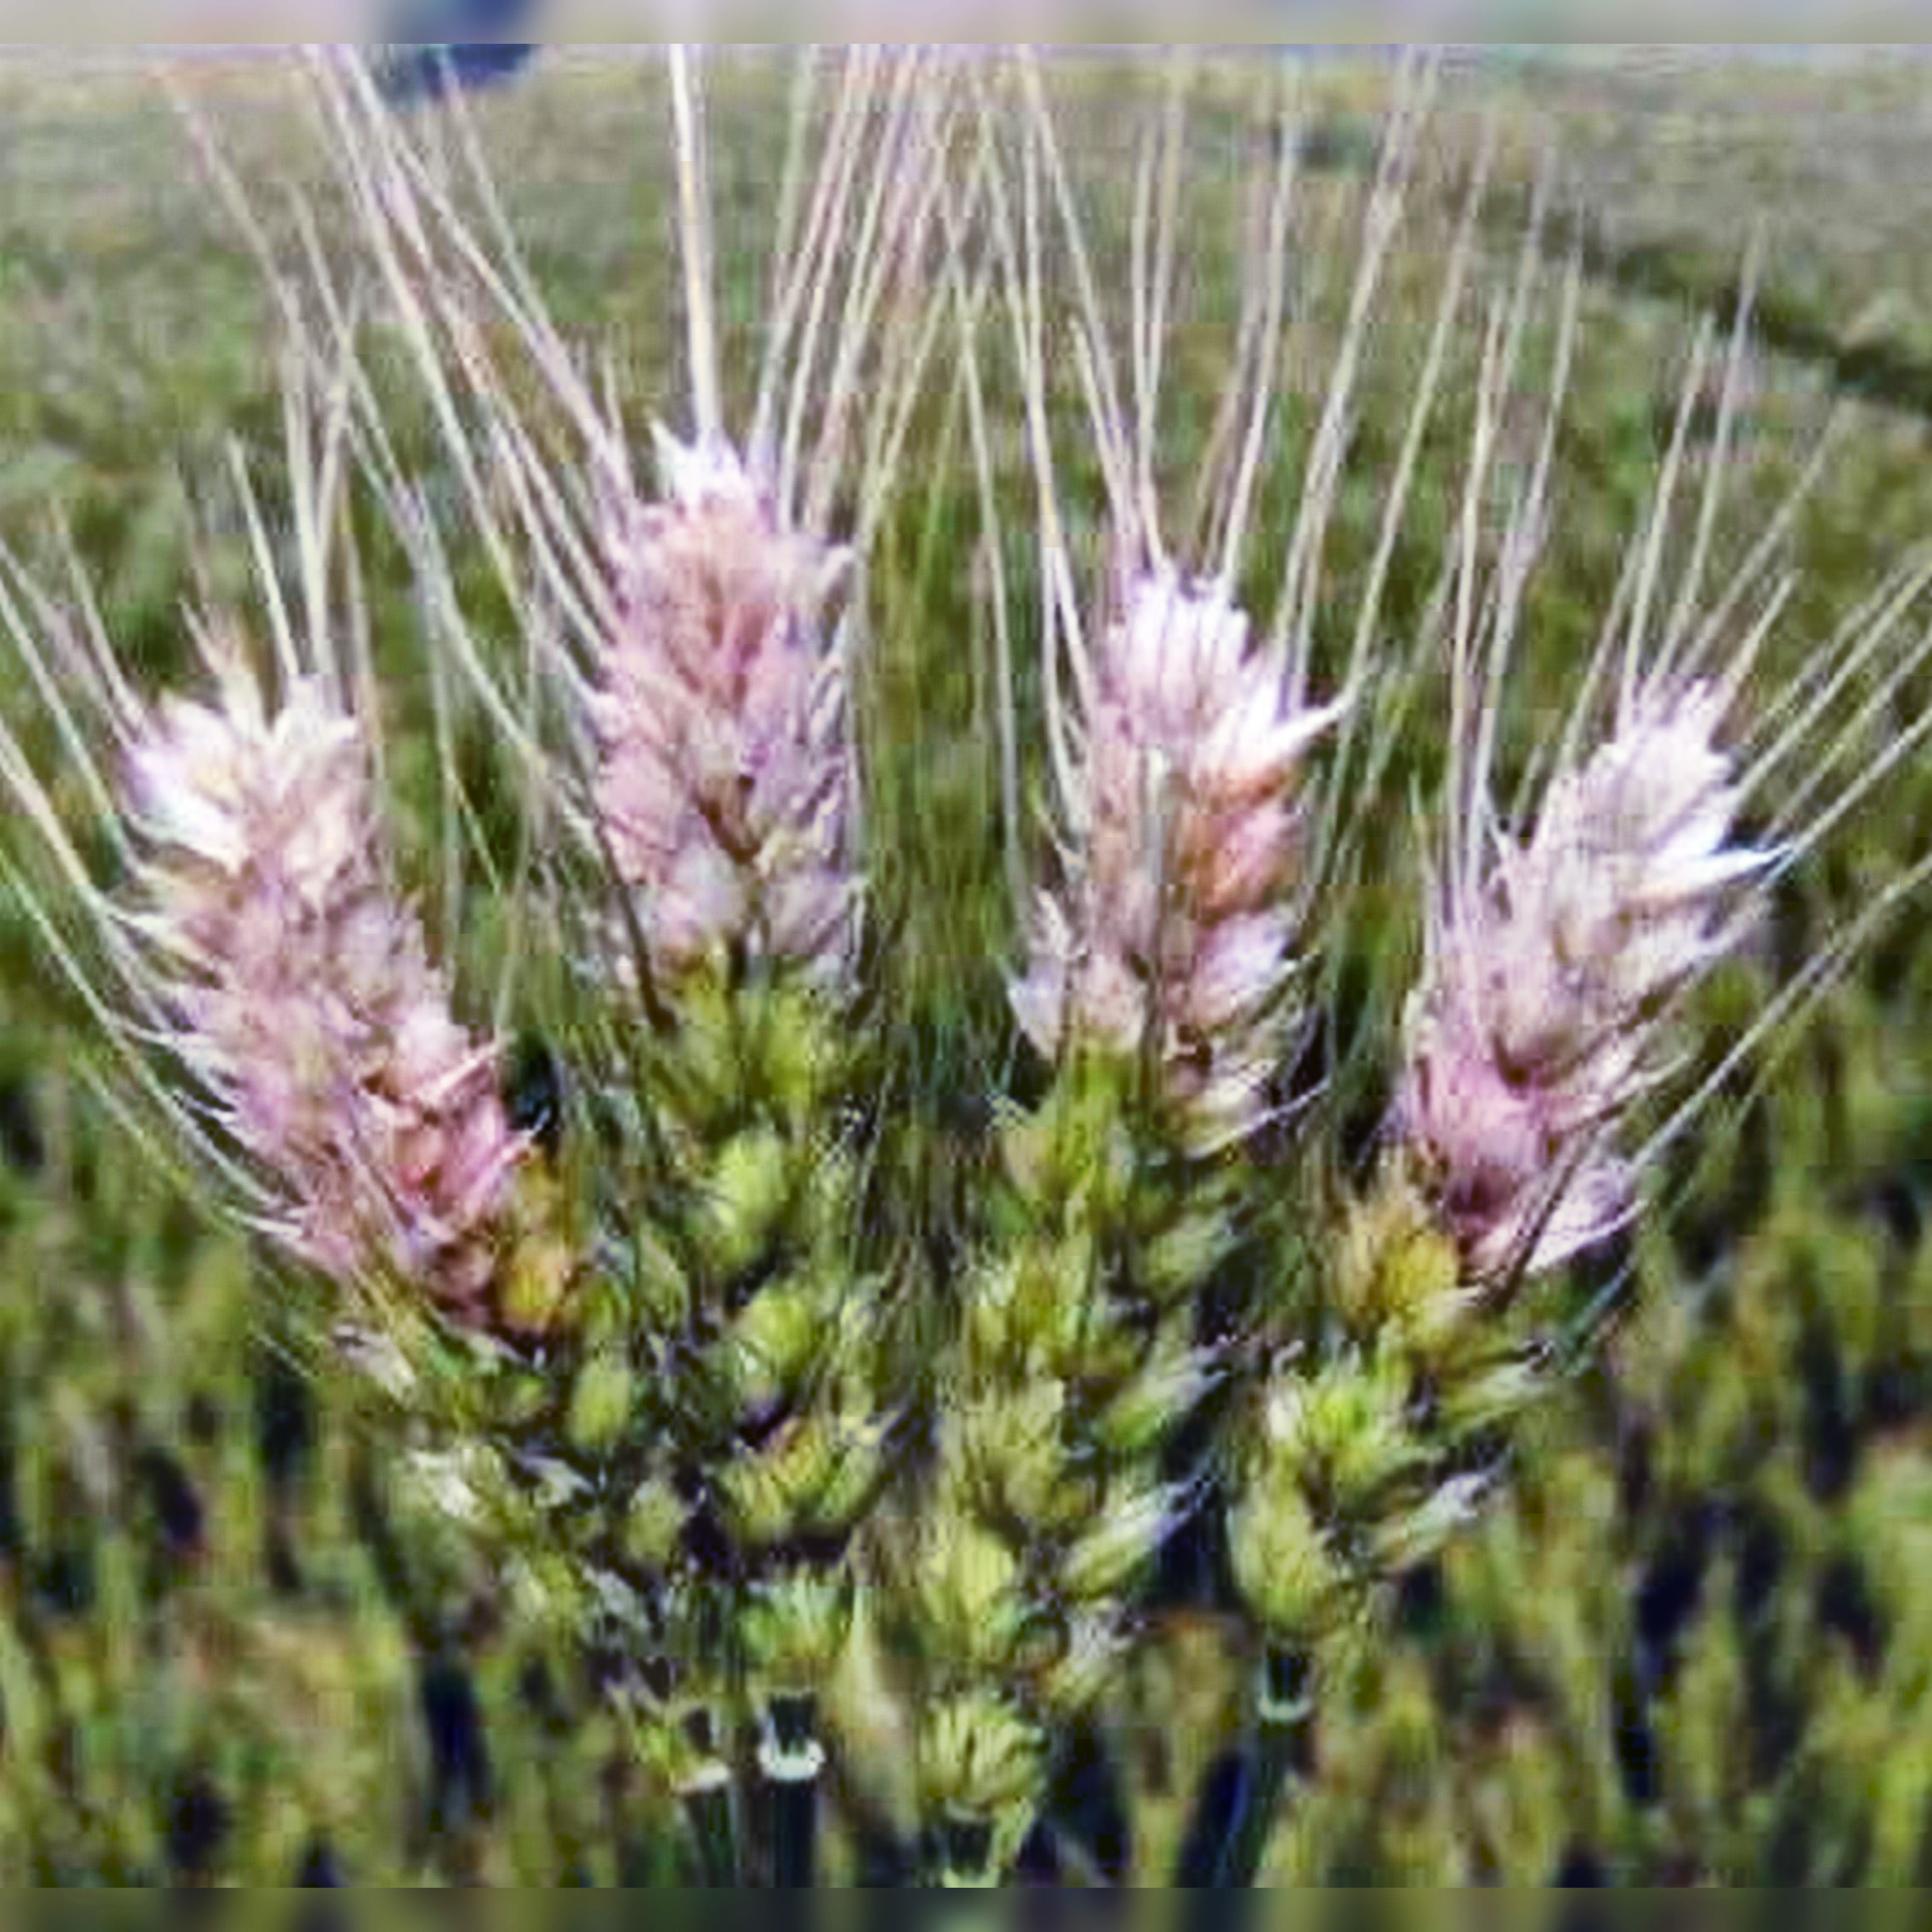Wheat scab: (541, 393, 1320, 1780)
